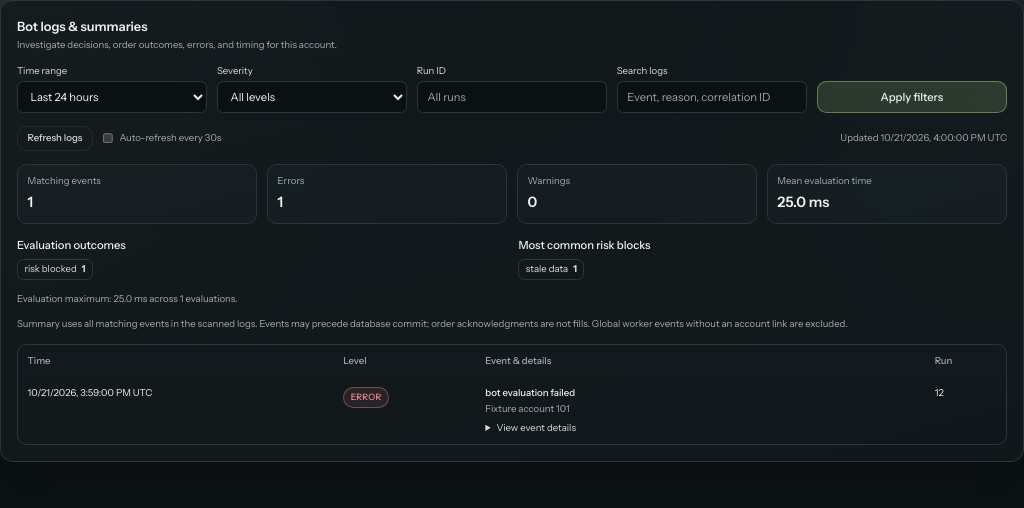
Test: bot diagnostics › retains last refresh with an explicit error when a later request fails
The image size is (1024, 508).
Expected: the text "Fixture account 101" is shown, [485, 403, 570, 414]
Click the button "Refresh logs": {"x": 55, "y": 139} [17, 126, 93, 151]
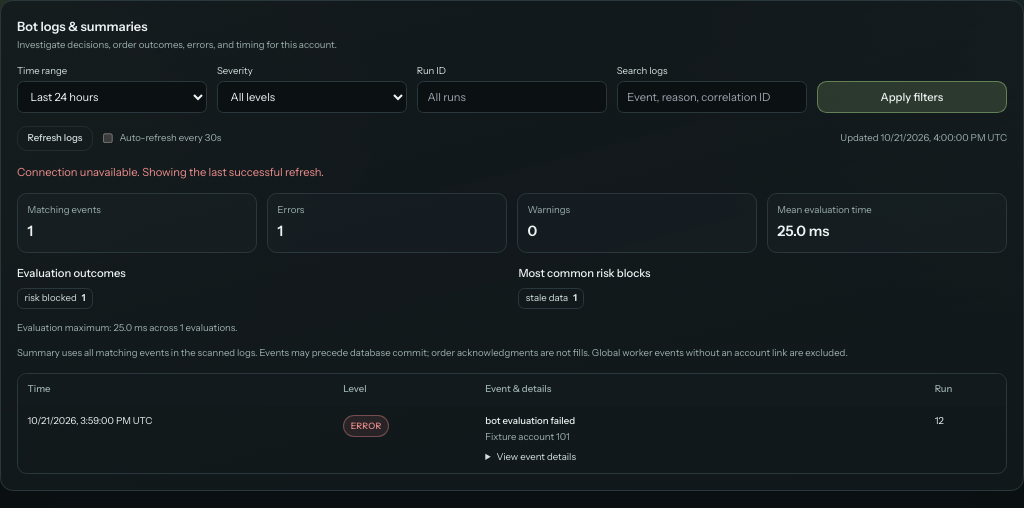
Expected: the text "Fixture account 101" is shown, [485, 431, 570, 442]
Now the message reads "Connection unavailable. Showing the last successful refresh.", box [17, 165, 324, 179]
